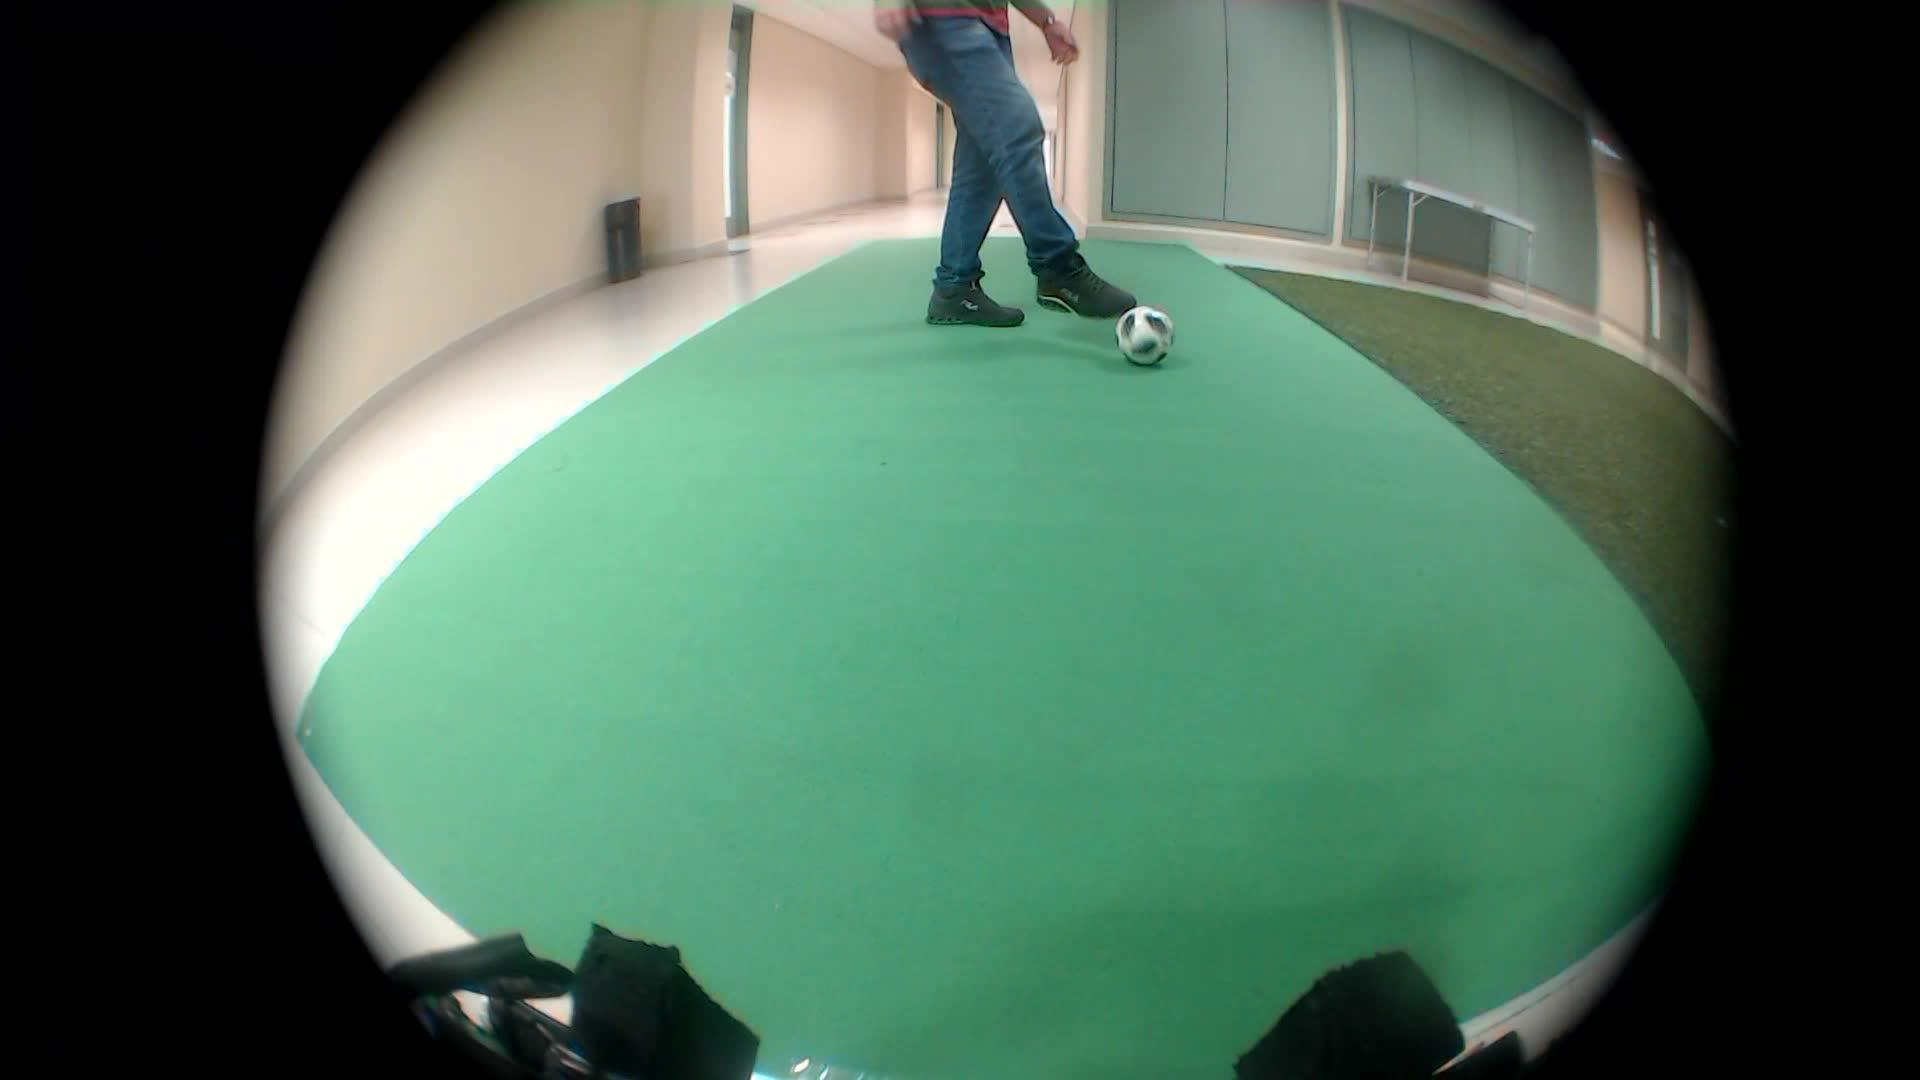ball: (1106, 302, 1182, 371)
